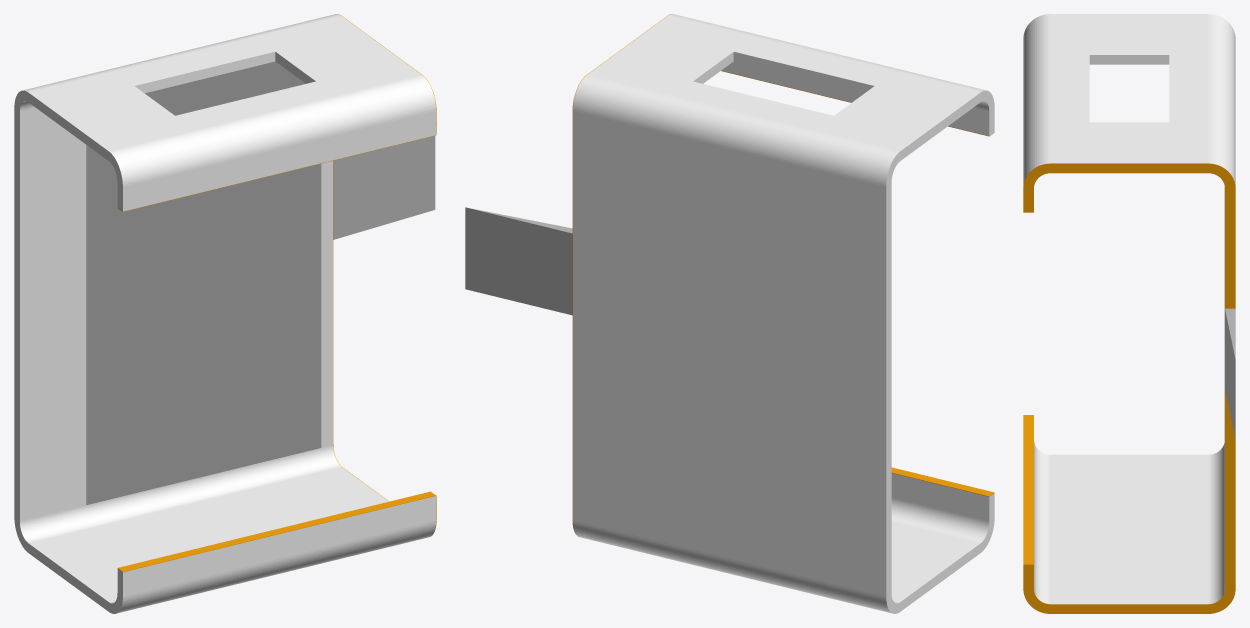
The model's file is nil_link_mesh.dae.
The picture shows the model from 3 angles, left to right: view 1: azimuth 30°, elevation 25°; view 2: azimuth 150°, elevation 25°; view 3: azimuth 270°, elevation 25°; orthographic projection. The views are drawn at different scales.
Parts seen in each view (by area): view 1: nil_link (×12); view 2: nil_link (×10); view 3: nil_link (×16).
Boxes of the visible parts, x1=… form: nil_link (×12): x1=14, y1=14, x2=436, y2=613; nil_link (×10): x1=465, y1=14, x2=994, y2=613; nil_link (×16): x1=1023, y1=14, x2=1235, y2=613.
Bounding box in the file's own units: 5.38 × 5.62 × 2.4.
